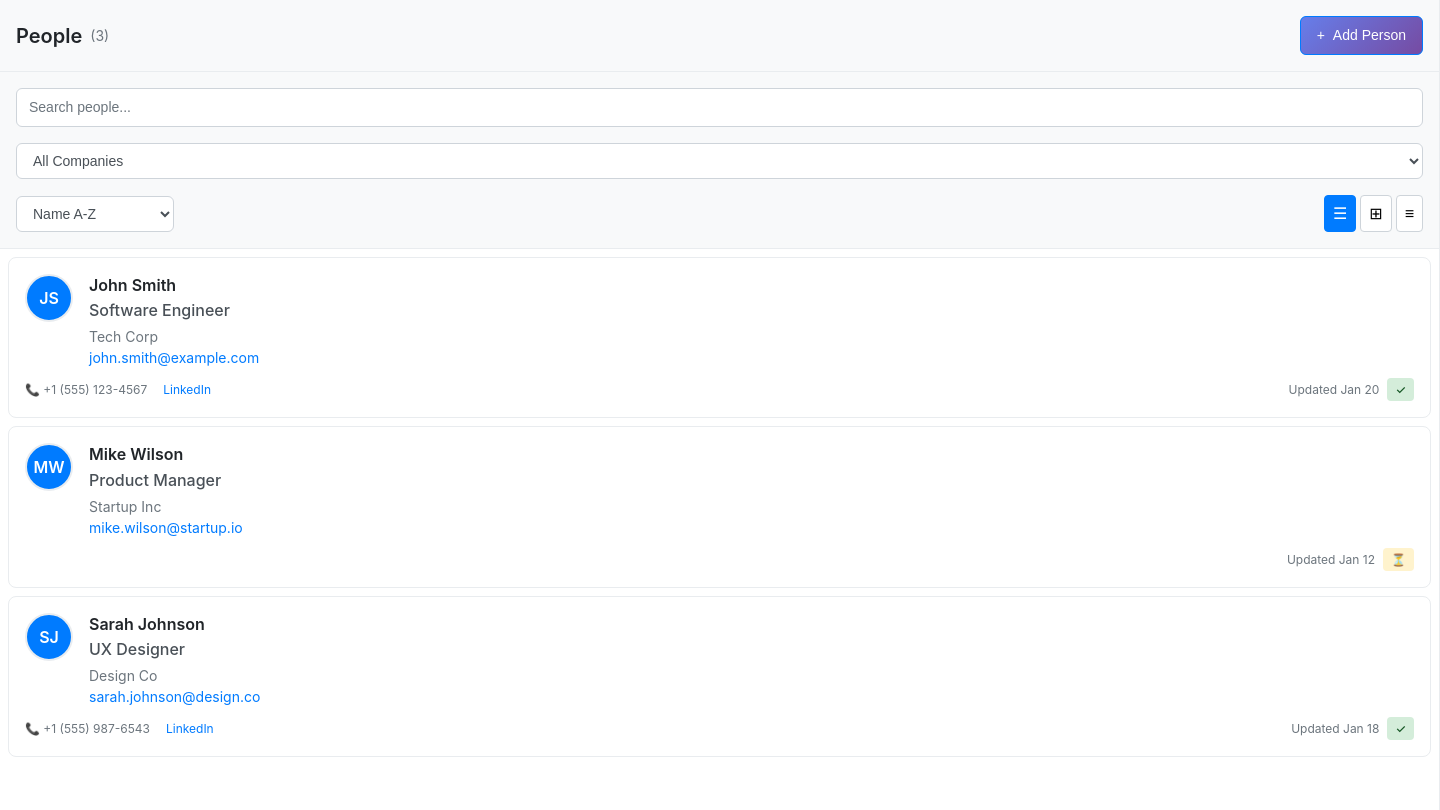
Test: PeopleList › shows clear filters button when filters are active
Type "test" into the field with placeholder "Search people..." at (720, 108), box x1=16 y1=88 x2=1423 y2=127
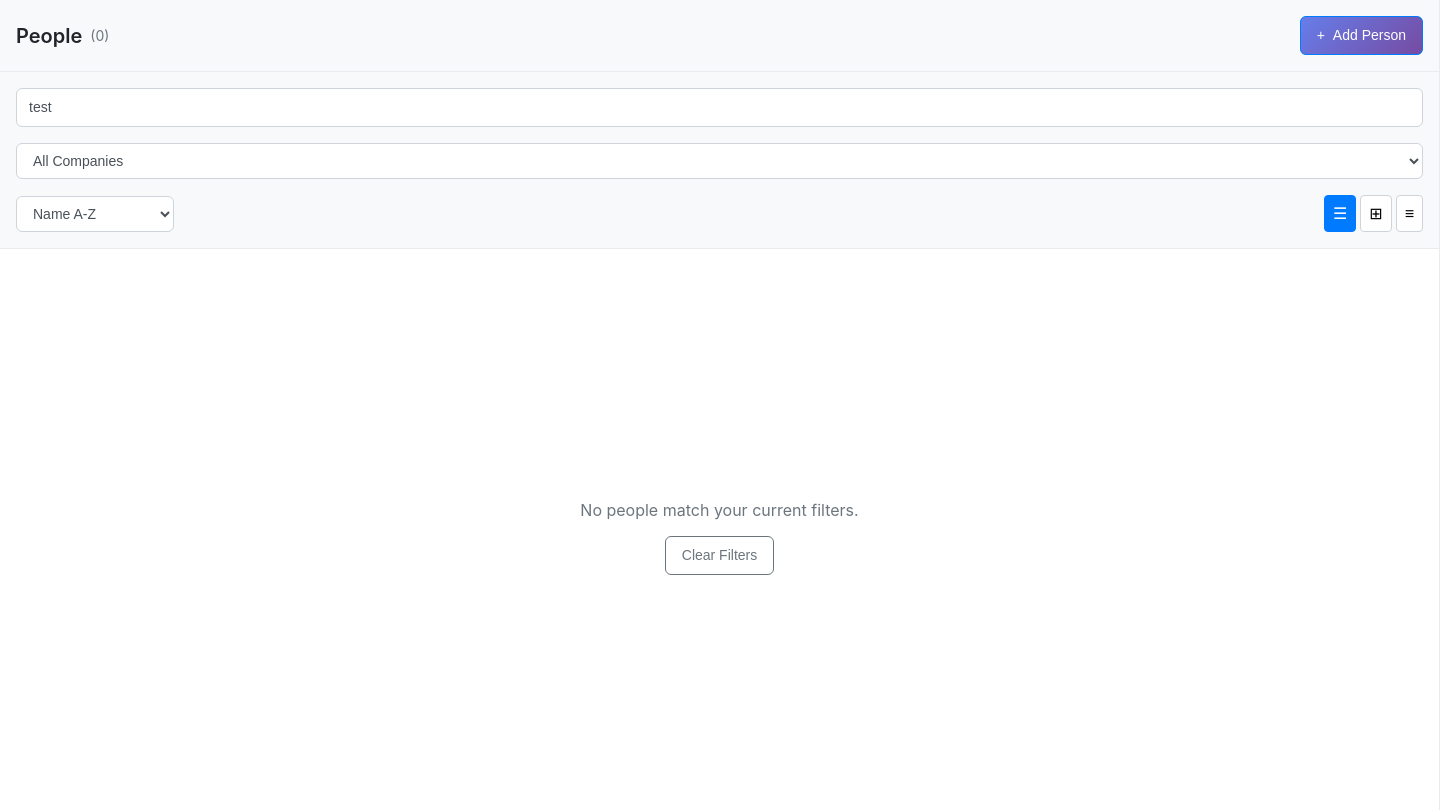
Result: the button "Clear Filters" is shown at x1=665 y1=536 x2=774 y2=575
